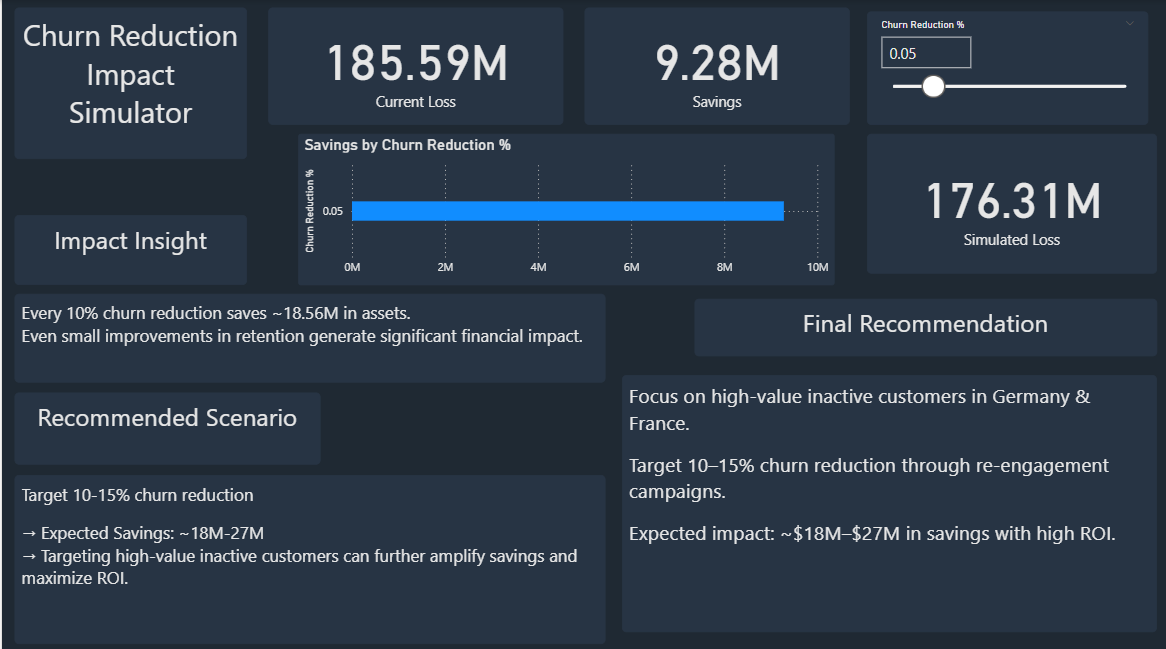

Layout of this report page (visuals, bound fields, positions):
{"tool":"powerbi","page":{"name":"Churn Reduction Impact Simulator ✅","canvas":[1280,720],"ordinal":3},"visuals":[{"type":"slicer","fields":{"Values":["Churn Reduction %.Churn Reduction %"]},"box":[949.6,12.3,308.7,124.9],"z":0},{"type":"card","fields":{"Values":["churn.Current Loss"]},"box":[307.4,6.7,324.2,129.3],"z":1000},{"type":"card","fields":{"Values":["churn.Simulated Loss"]},"box":[949.6,146.8,318.4,153.7],"z":2000},{"type":"card","fields":{"Values":["churn.Savings"]},"box":[639.5,8.2,290.9,129],"z":3000},{"type":"textbox","box":[17.8,12.3,255.2,166],"z":4000},{"type":"textbox","box":[370.5,338.9,296.4,52.1],"z":5000},{"type":"textbox","box":[17.8,607.9,649.1,97.4],"z":6000},{"type":"textbox","box":[17.8,513.2,336.2,79.6],"z":7000},{"type":"textbox","box":[370.5,407.5,296.4,185.2],"z":8000},{"type":"textbox","box":[680.6,411.7,587.3,282.7],"z":9000},{"type":"textbox","box":[760.2,328,507.7,63.1],"z":10000},{"type":"barChart","fields":{"Category":["Churn Reduction %.Churn Reduction %"],"Y":["churn.Savings"]},"box":[321.1,146.8,588.7,166],"z":11000},{"type":"pageNavigator","box":[17.8,196.2,289.5,306],"z":12000},{"type":"image","box":[320.8,28.6,92.4,87.3],"z":12001},{"type":"image","box":[646.7,28.6,67.2,68.9],"z":12002},{"type":"image","box":[949.1,193.2,85.7,72.2],"z":12003}]}

Visuals, with their boxes in screenshot pixels (x1, y1, x2, y2), scaled from the page's 1280x720 canvas onto the 1166x649 screenshot:
slicer - Churn Reduction %.Churn Reduction %: bbox(865, 11, 1146, 124)
card - churn.Current Loss: bbox(280, 6, 575, 123)
card - churn.Simulated Loss: bbox(865, 132, 1155, 271)
card - churn.Savings: bbox(583, 7, 848, 124)
textbox: bbox(16, 11, 249, 161)
textbox: bbox(338, 305, 608, 352)
textbox: bbox(16, 548, 608, 636)
textbox: bbox(16, 463, 322, 534)
textbox: bbox(338, 367, 608, 534)
textbox: bbox(620, 371, 1155, 626)
textbox: bbox(692, 296, 1155, 353)
barChart - Churn Reduction %.Churn Reduction % x churn.Savings: bbox(293, 132, 829, 282)
pageNavigator: bbox(16, 177, 280, 453)
image: bbox(292, 26, 376, 104)
image: bbox(589, 26, 650, 88)
image: bbox(865, 174, 943, 239)
